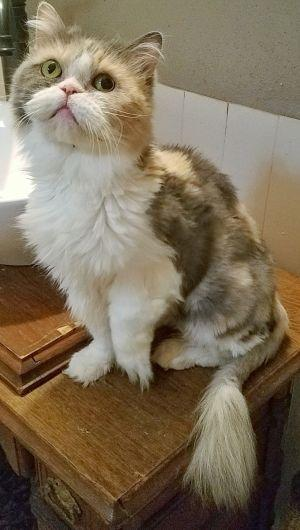persian: (1, 1, 170, 166)
